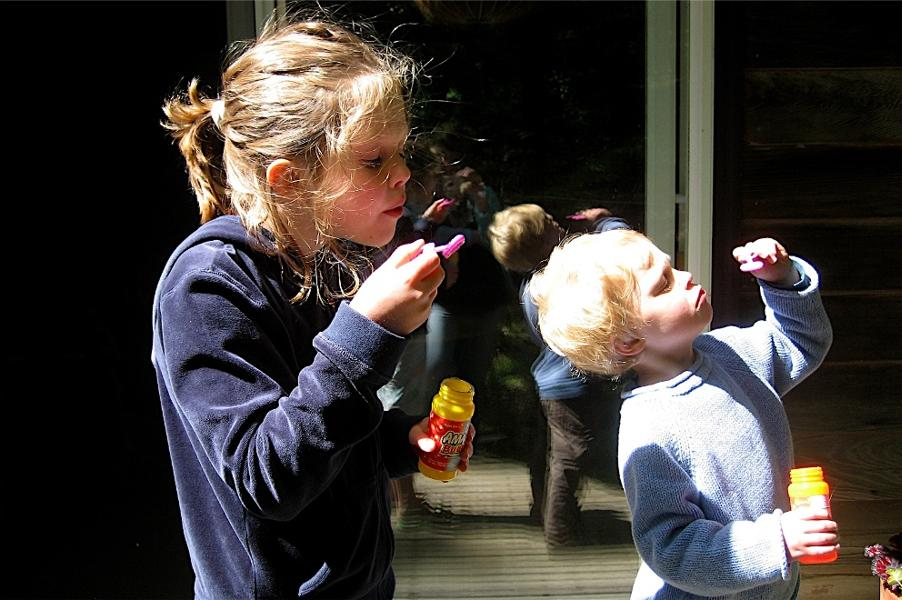person: (145, 12, 482, 600)
